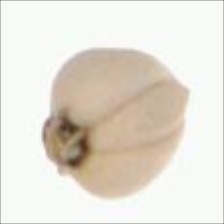L5: (89, 78, 193, 158), (40, 105, 93, 180), (170, 72, 191, 128)
L6: (37, 45, 197, 200)
